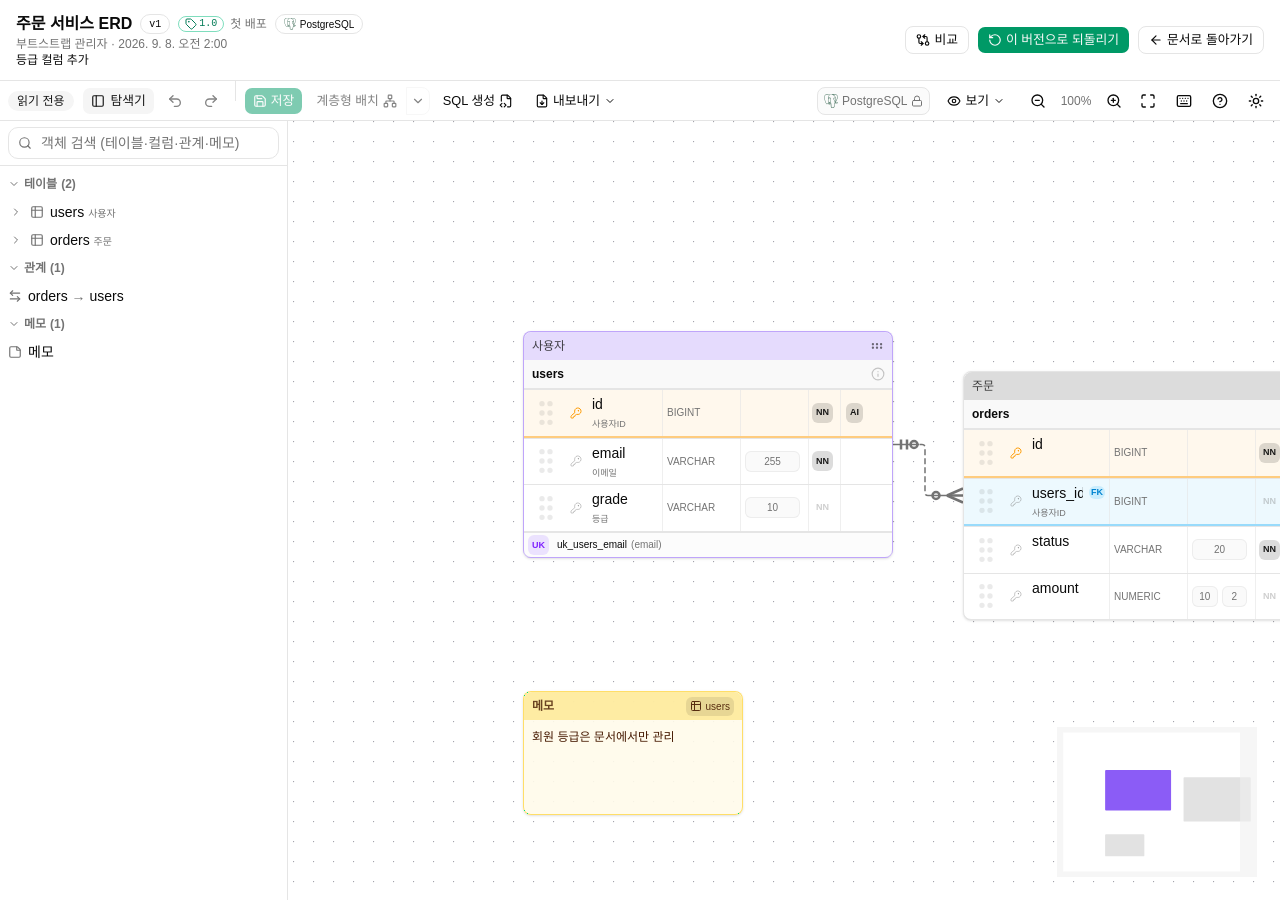
Scenario: 버전 기록 뷰어 › 복원 충돌(409) — 안내 후 확인 다이얼로그를 닫는다
This screenshot has width=1280, height=900.
Click the button "이 버전으로 되돌리기" at (1054, 40), box [977,26,1130,54]
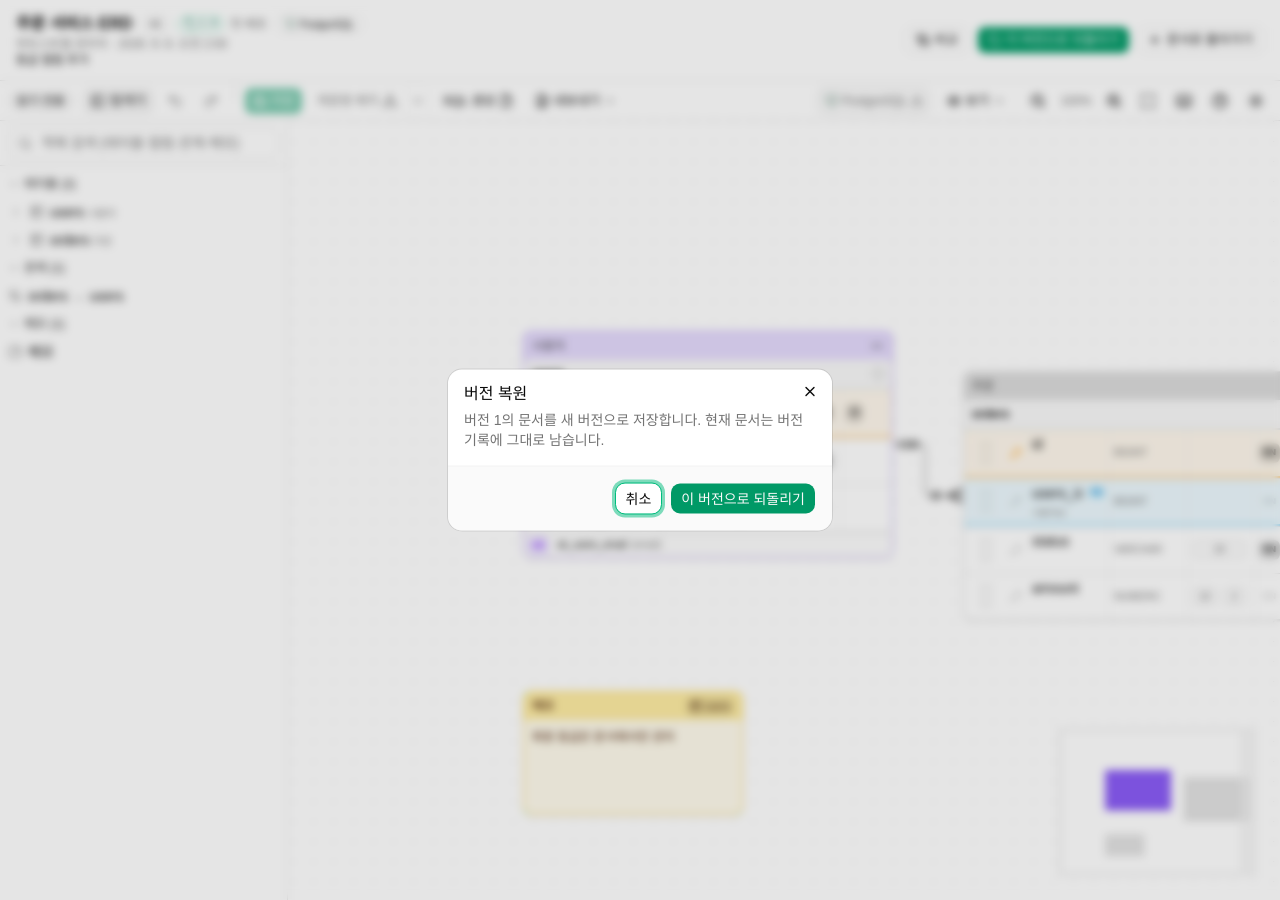
Click the button "이 버전으로 되돌리기" at (743, 498), box [670,482,816,514]
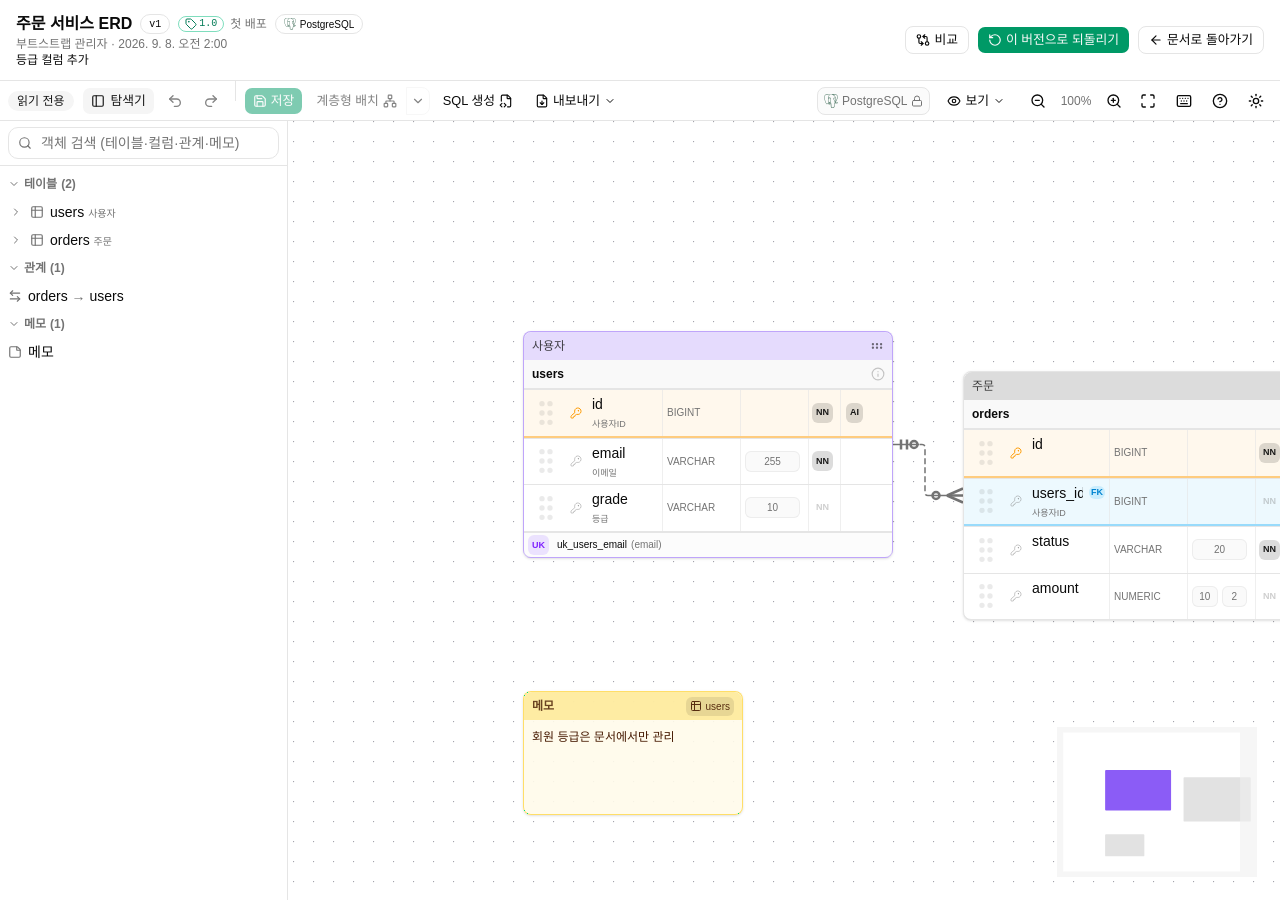
Now the dialog is gone
